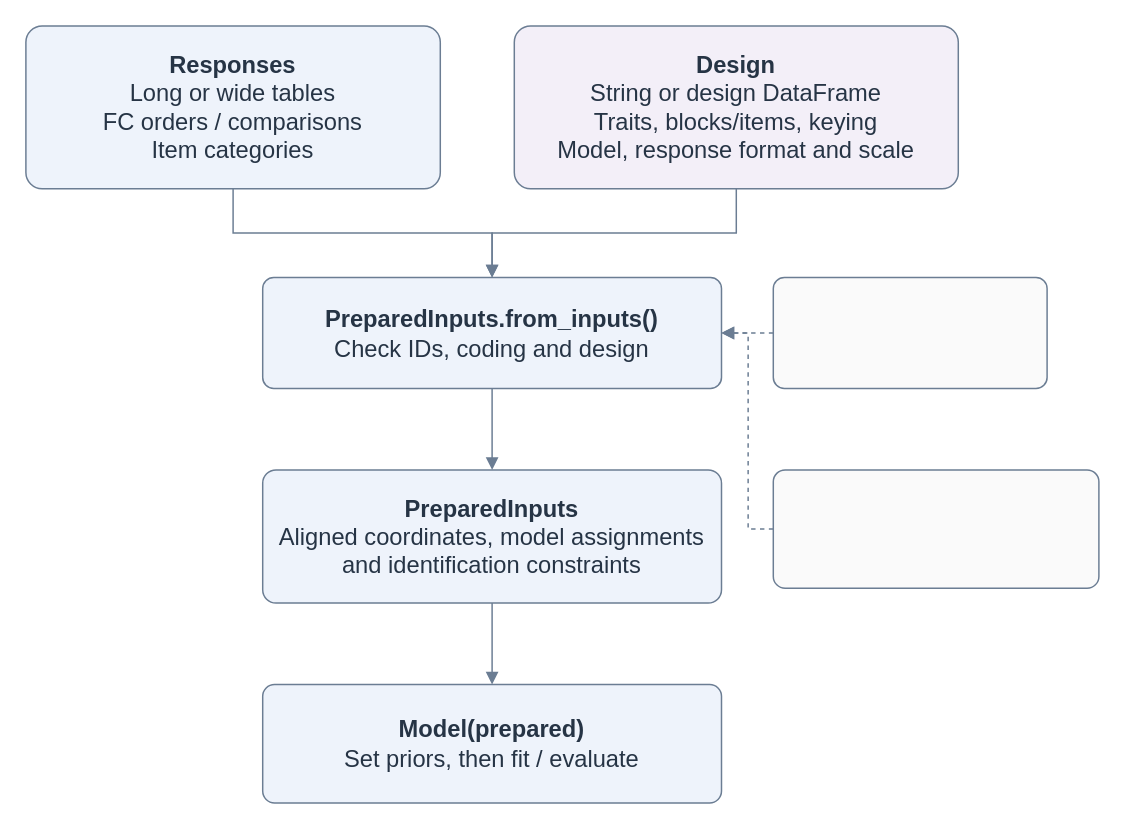
Image size: 1125x829. Some labels were removed from this diagram. The shapes that lost their labels are listed below. From the top down, each one's centre as x and y in pixels, then its label:
the point at 909,332: Optional group labels + PopulationSpec
the point at 935,528: Optional feature tables person / statement / item / pair + regression formulas
